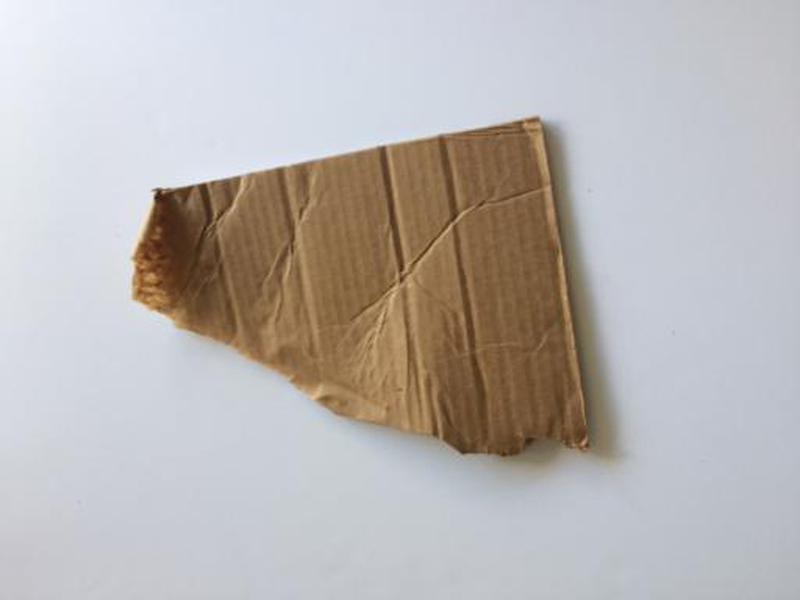cardboard: (126, 113, 603, 465)
